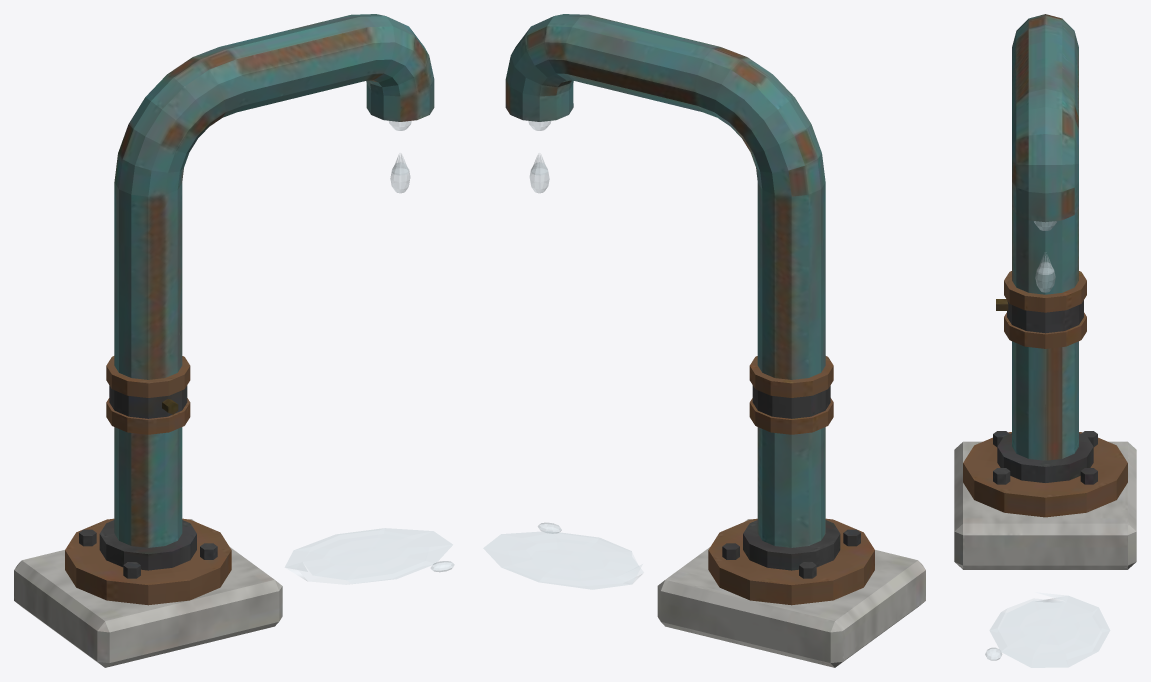
File: D37_dripping_pipe.glb
3 renders of one model, left to right at view 1: azimuth 30°, elevation 25°; view 2: azimuth 150°, elevation 25°; view 3: azimuth 270°, elevation 25°, orthographic.
Parts seen in each view (by area): view 1: Chipped mounting plinth; view 2: Chipped mounting plinth; view 3: Chipped mounting plinth.
Boxes of the visible parts, bbox=[...] form: Chipped mounting plinth: bbox=[14, 14, 454, 667]; Chipped mounting plinth: bbox=[483, 14, 925, 667]; Chipped mounting plinth: bbox=[954, 14, 1136, 667].
Bounding box in the file's own units: 0.7451 × 1 × 0.3045.
7 materials, 6 textured.
